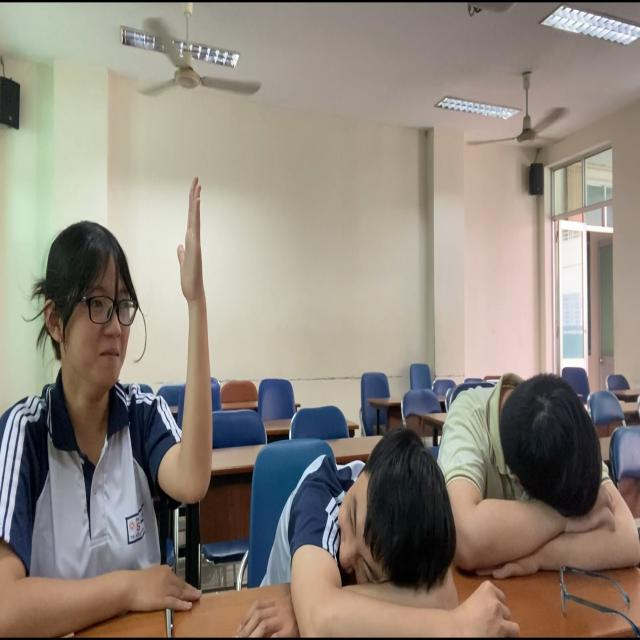raise_hand: (1, 136, 229, 640)
sleep: (229, 425, 456, 640), (429, 367, 640, 584)
